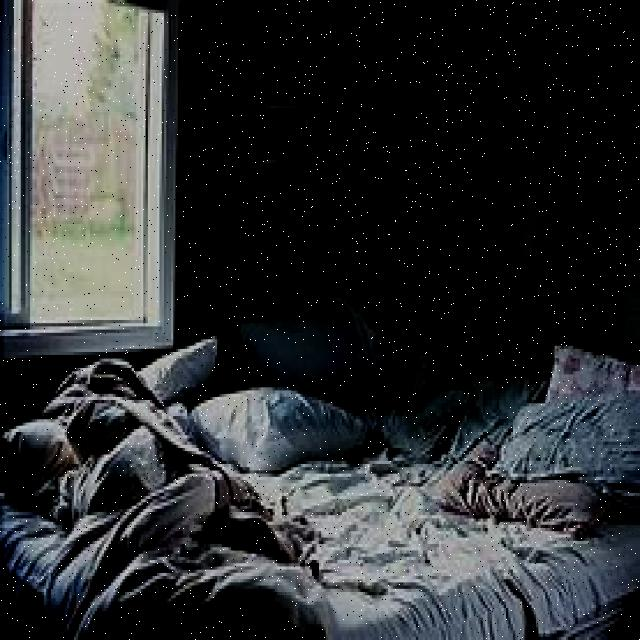bed: (7, 301, 638, 640)
